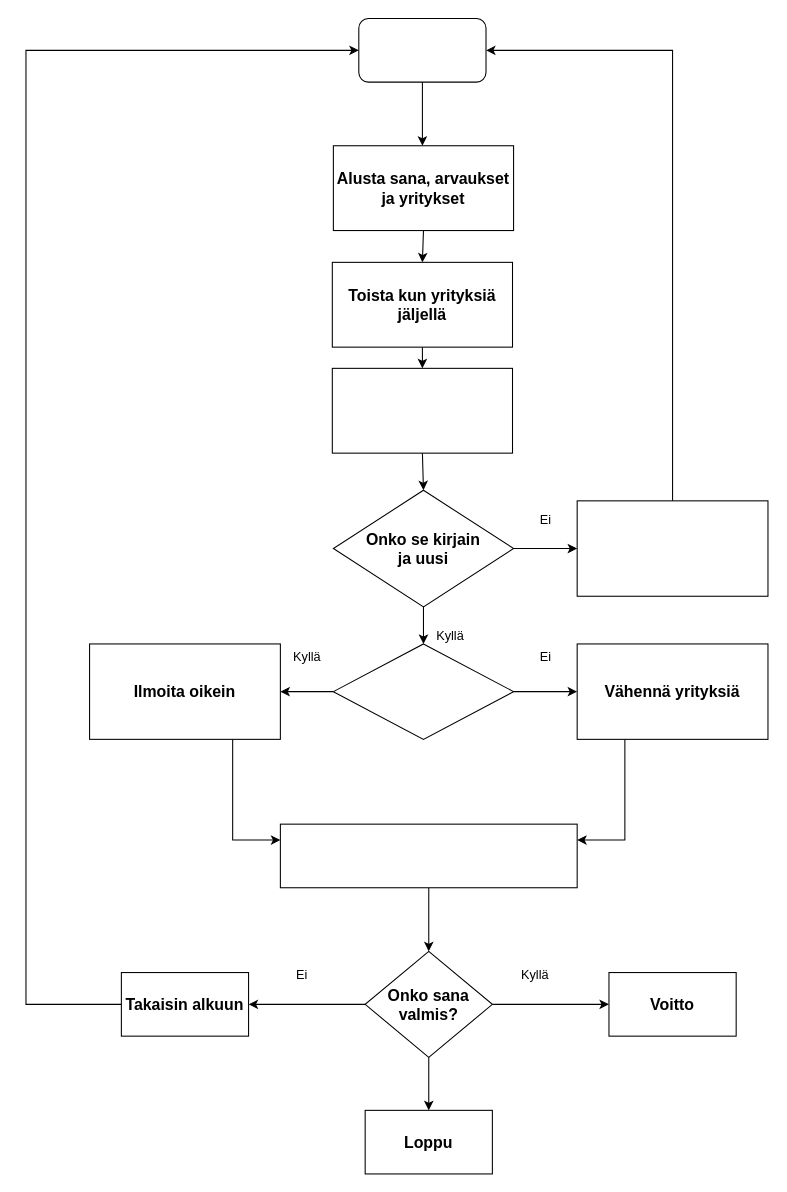
The diagram is 787 pixels wide and 1192 high, and some of its shapes have lost their labels. The shapes that lost their labels are listed below. From the top down, each one's centre as x and y in pixels, then its label:
the point at 422,49: Alku
the point at 422,410: Pyydä kirjain
the point at 672,548: Ilmoita virhe, palaa alkuun
the point at 423,691: Onko kirjain sanassa
the point at 428,855: Tulosta sana piilossa
